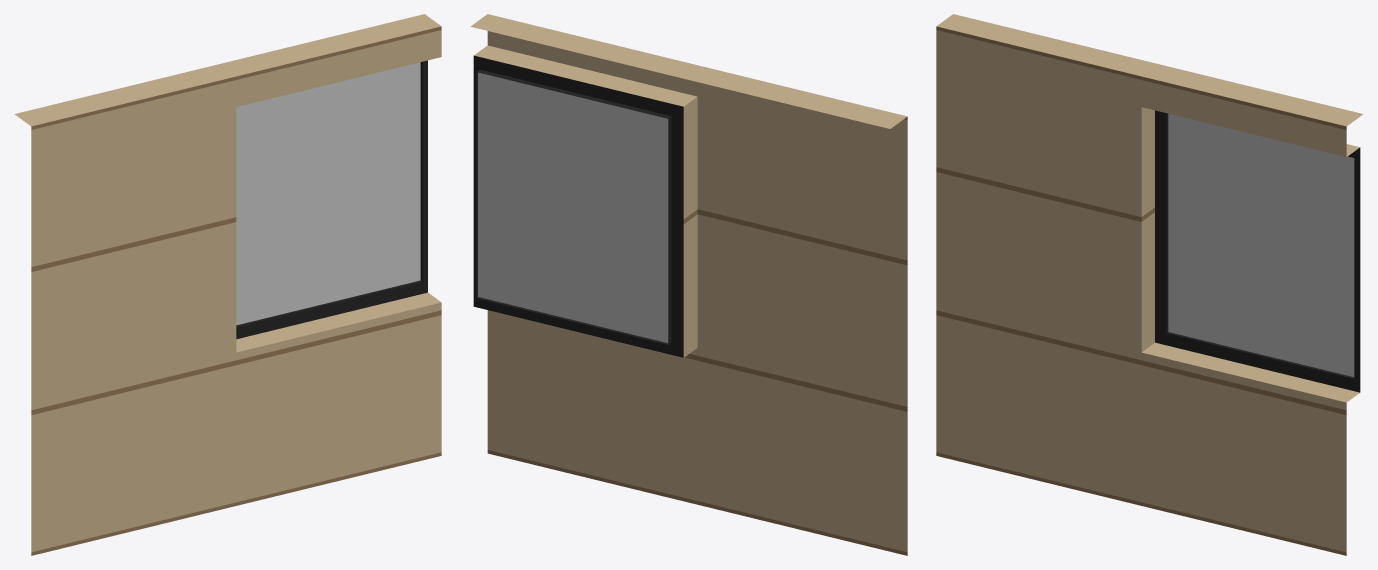
The model's file is M_WallTile1Window200Biege80.FBX.
3 views of the same model, side by side, from view 1: azimuth 30°, elevation 25°; view 2: azimuth 150°, elevation 25°; view 3: azimuth 330°, elevation 25° (orthographic). The views are drawn at different scales.
Visible parts, largest first — view 1: M_WallTile1Window200Biege80; view 2: M_WallTile1Window200Biege80; view 3: M_WallTile1Window200Biege80.
Part boxes in pixels (left/top/right/bottom): M_WallTile1Window200Biege80: left=14, top=14, right=441, bottom=555; M_WallTile1Window200Biege80: left=471, top=14, right=907, bottom=555; M_WallTile1Window200Biege80: left=936, top=14, right=1363, bottom=555.
Bounding box in the file's own units: 3.5 × 3.5 × 0.25.
